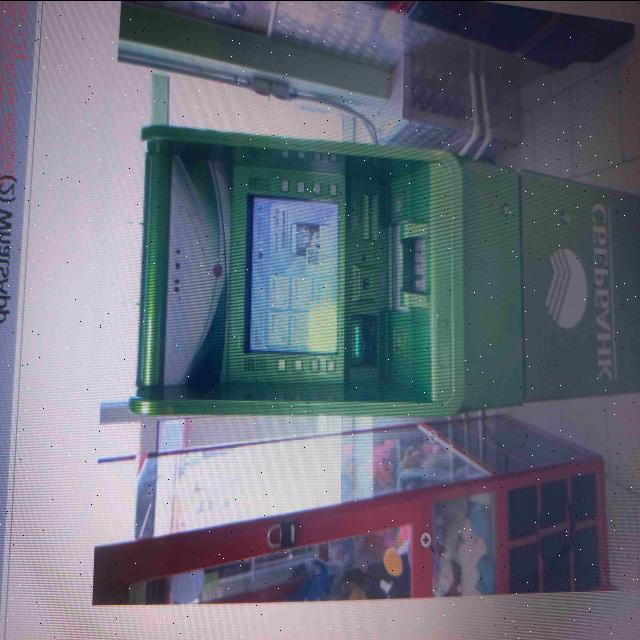bank: (130, 120, 640, 420)
